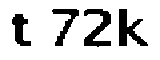2: (82, 5, 112, 49)
7: (49, 6, 80, 52)
k: (115, 6, 151, 50)
t: (9, 10, 35, 50)
